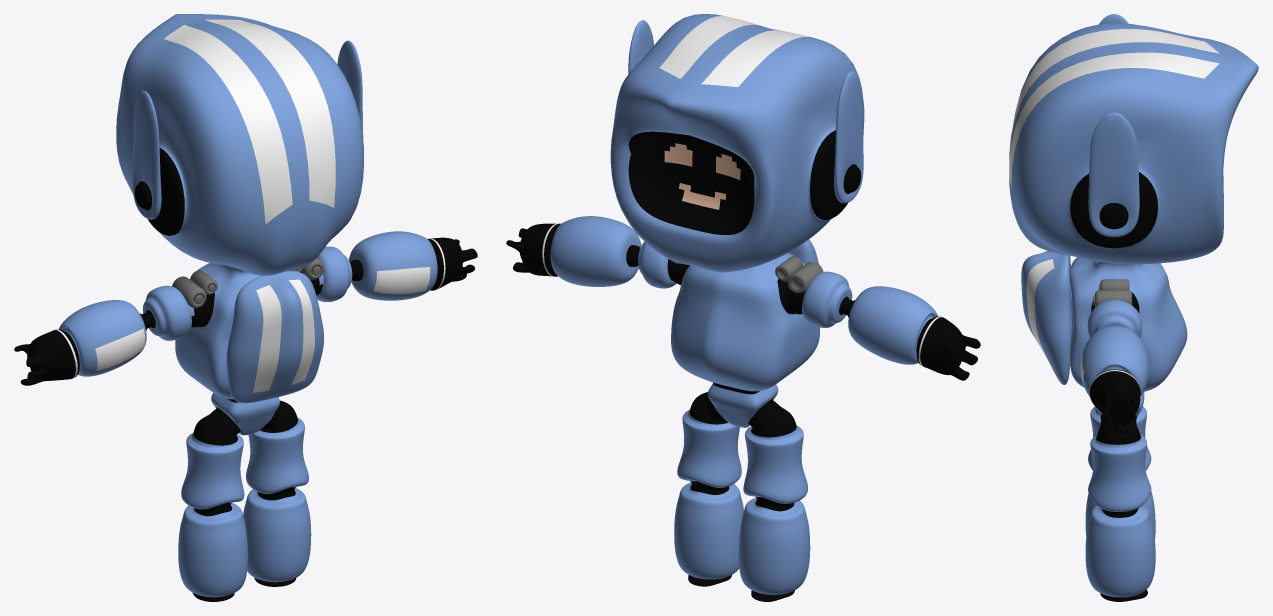
The model's file is ana karakter2.fbx.
3 views of the same model, side by side, from view 1: azimuth 30°, elevation 25°; view 2: azimuth 150°, elevation 25°; view 3: azimuth 270°, elevation 25° (orthographic). The views are drawn at different scales.
Parts seen in each view (by area): view 1: Cylinder.001; view 2: Cylinder.001; view 3: Cylinder.001.
Part boxes in pixels (x1,y1,x2,y2): Cylinder.001: [14, 14, 477, 601]; Cylinder.001: [506, 14, 980, 601]; Cylinder.001: [1009, 14, 1258, 601].
Size of the model in its own units: 153 by 175 by 74.56.
